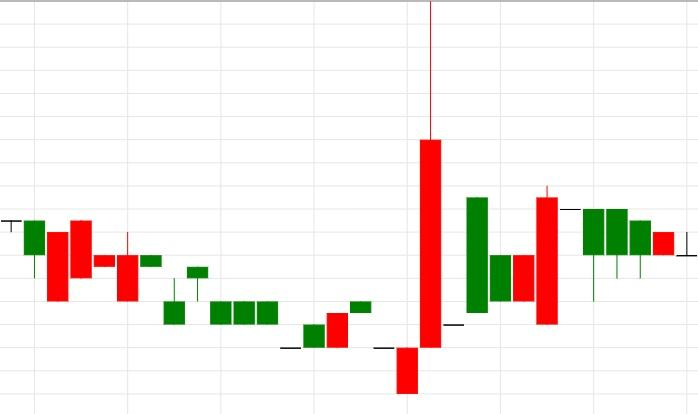evening_star_fall: (396, 0, 605, 394)
